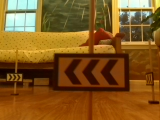left: (55, 54, 128, 90)
right: (7, 73, 23, 80)
